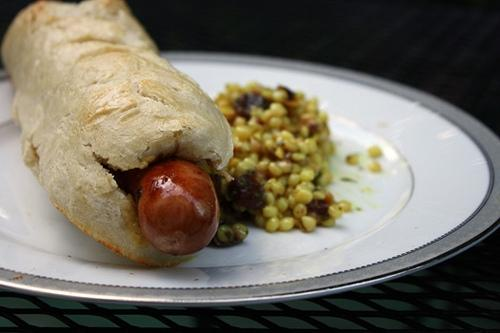corn: (272, 86, 295, 102), (233, 142, 250, 160), (286, 172, 301, 189), (308, 118, 324, 132), (328, 205, 344, 219), (296, 190, 312, 204), (256, 157, 270, 172), (263, 140, 277, 154), (269, 162, 283, 176), (236, 126, 250, 140), (271, 182, 285, 194), (368, 146, 382, 157), (284, 151, 292, 159)
